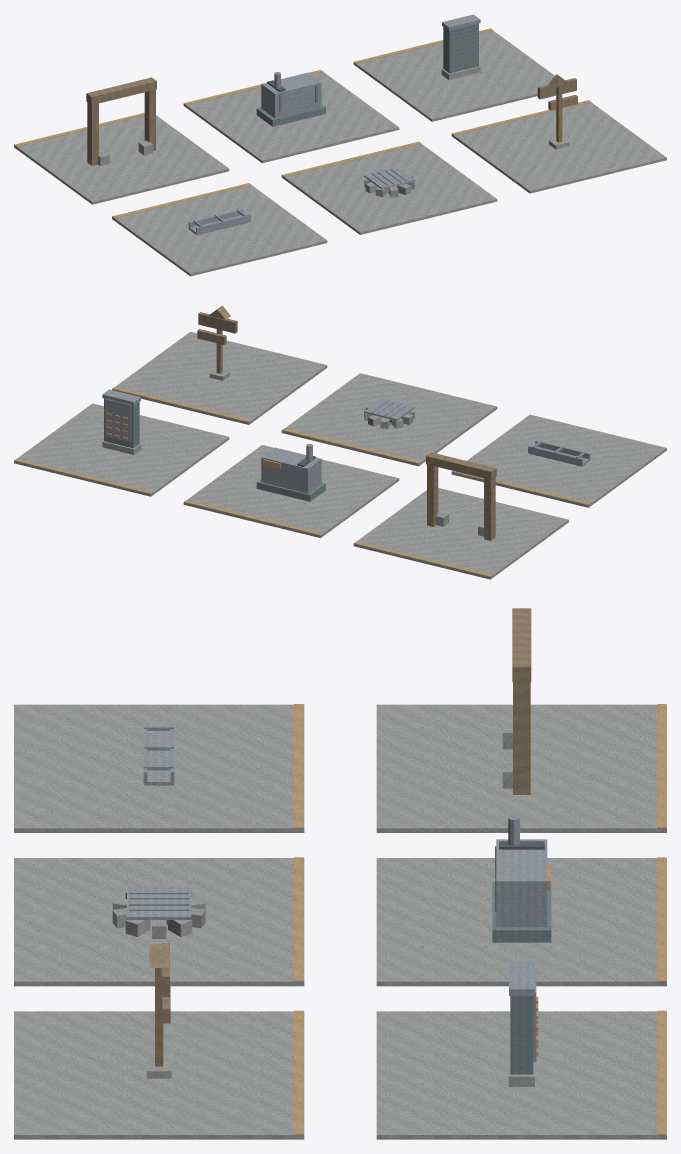
Rendered from level_blockout_kit_wld_03_p01.glb.
3 renders of one model, top to bottom at view 1: azimuth 30°, elevation 25°; view 2: azimuth 150°, elevation 25°; view 3: azimuth 270°, elevation 25°, orthographic. The views are drawn at different scales.
Parts seen in each view (by area): view 1: level_blockout_kit_wld_03_p01; view 2: level_blockout_kit_wld_03_p01; view 3: level_blockout_kit_wld_03_p01.
Part boxes in pixels (left/top/right/bottom): level_blockout_kit_wld_03_p01: left=14, top=14, right=666, bottom=276; level_blockout_kit_wld_03_p01: left=14, top=305, right=666, bottom=579; level_blockout_kit_wld_03_p01: left=14, top=608, right=666, bottom=1139.
Bounding box in the file's own units: 19.65 × 2.85 × 12.6.
Materials: 6 (6 with a texture image).
